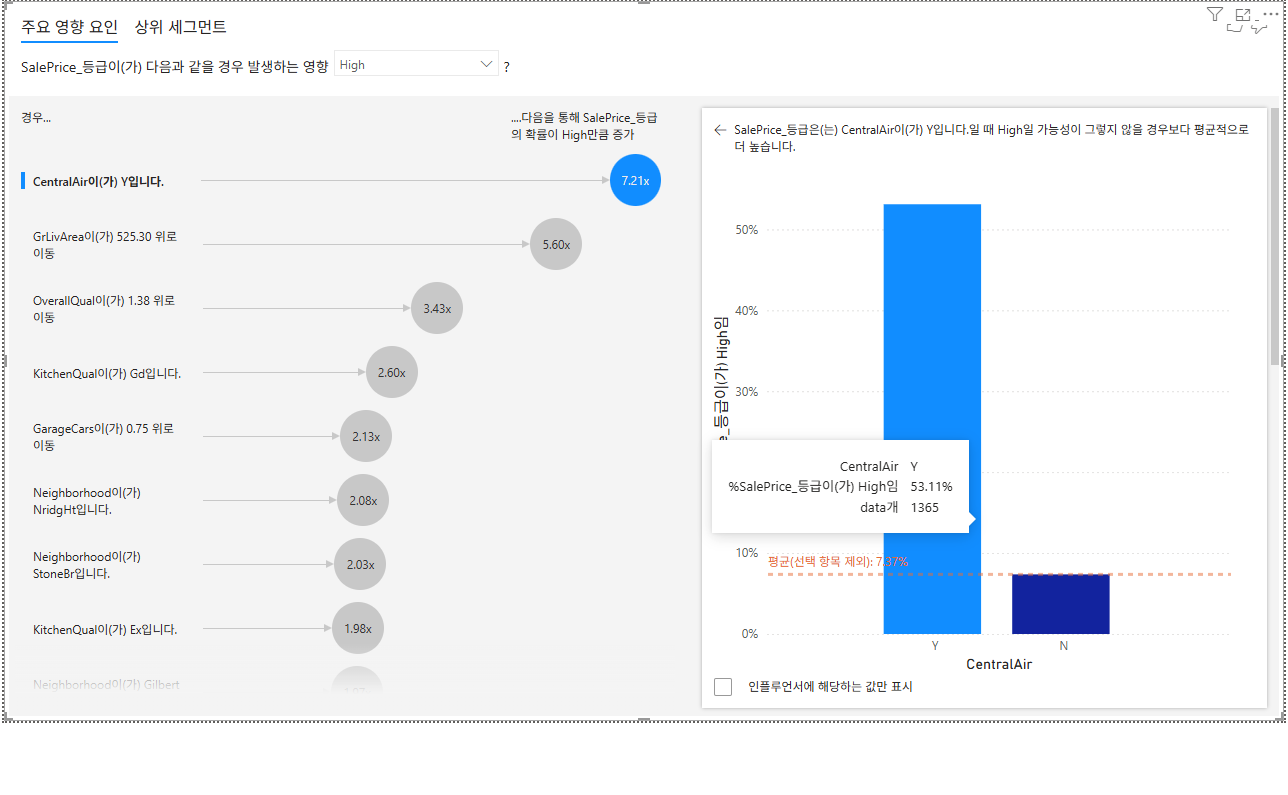

The page's visual inventory and layout, read from the dashboard file:
{"tool":"powerbi","page":{"name":"2 페이지","canvas":[1280,720],"ordinal":1},"visuals":[{"type":"keyDriversVisual","fields":{"Target":["data.SalePrice_등급"],"ExplainBy":["data.GrLivArea","data.OverallQual","data.Neighborhood","data.ExterQual","data.KitchenQual","data.GarageCars","data.TotalBsmtSF","data.YearBuilt","data.CentralAir"]},"box":[0,0,1280,720],"z":0}]}

Visuals, with their boxes on the page's 1280x720 design canvas (x1, y1, x2, y2). These are canvas units, not pixel positions in the 1288x795 screenshot, which may show the page scaled, cropped or inside an application window:
keyDriversVisual - data.SalePrice_등급 x data.GrLivArea: <box>0,0,1280,720</box>
